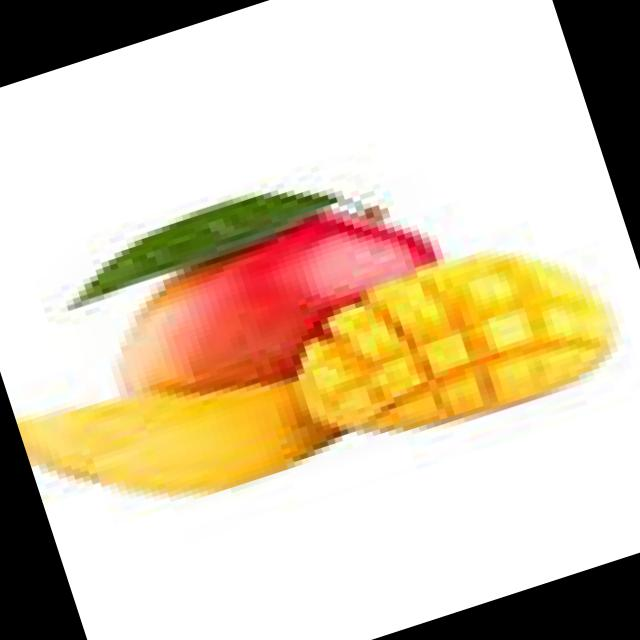mango: (78, 194, 436, 391), (297, 254, 610, 429), (17, 380, 337, 491)
